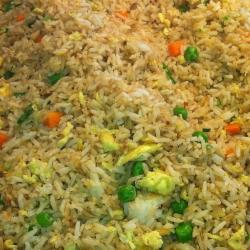rice: (9, 15, 216, 241)
